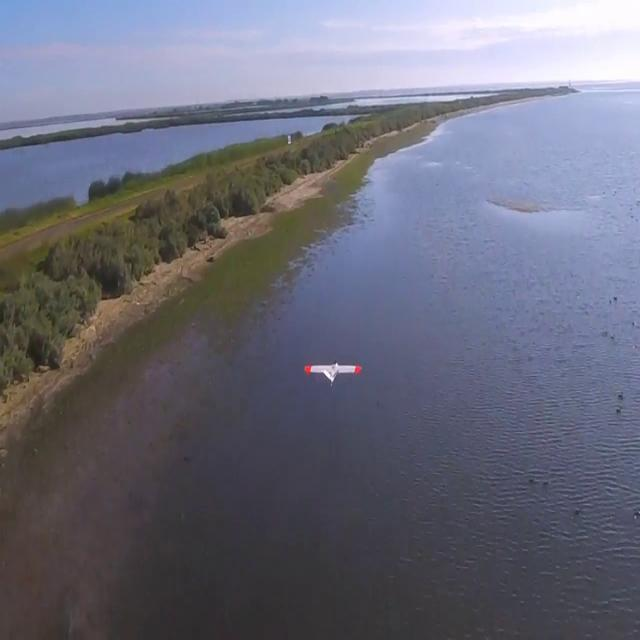iha: (304, 359, 362, 391)
